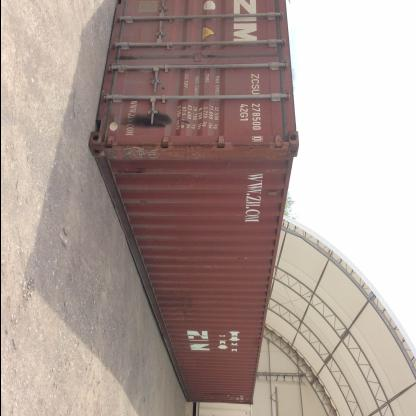Damage: (110, 103, 172, 136), (112, 164, 149, 178), (180, 282, 190, 319), (172, 114, 191, 132), (134, 197, 149, 206), (202, 392, 232, 396), (235, 254, 247, 263), (237, 264, 249, 272), (206, 263, 216, 271), (158, 84, 166, 93), (210, 245, 214, 251)
